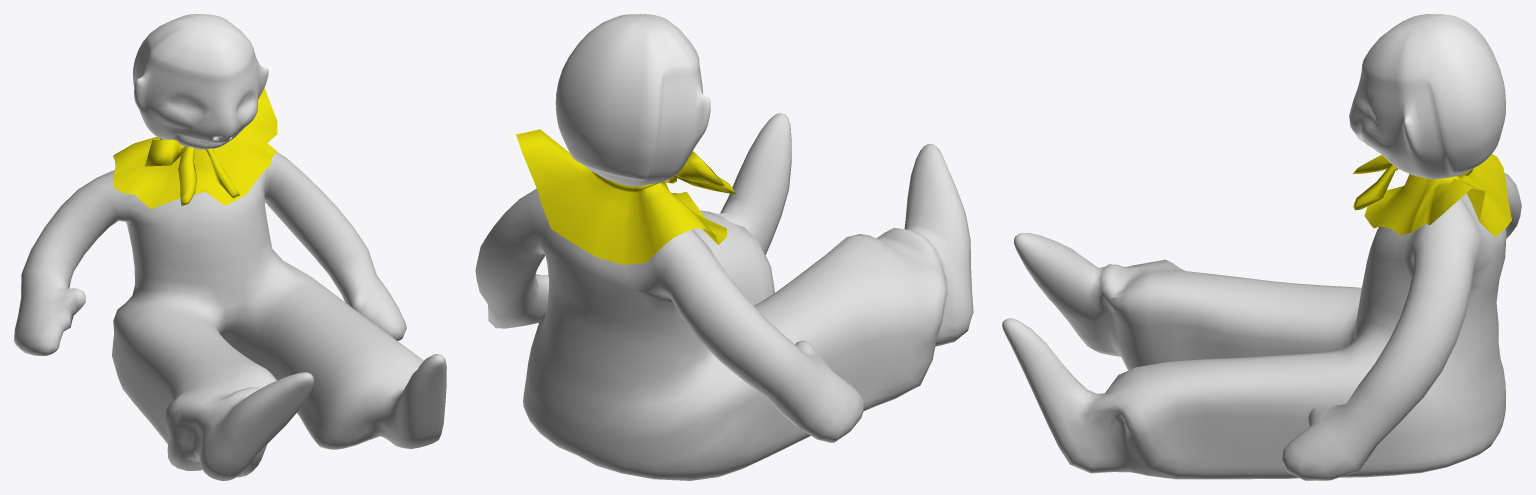
The model's file is Toy.fbx.
3 views of the same model, side by side, from view 1: azimuth 30°, elevation 25°; view 2: azimuth 150°, elevation 25°; view 3: azimuth 270°, elevation 25° (orthographic). The views are drawn at different scales.
Parts seen in each view (by area): view 1: ToyBody, ToyBody.001, ToyBody2; view 2: ToyBody, ToyBody.001, ToyBody2; view 3: ToyBody, ToyBody.001, ToyBody2.
Part boxes in pixels (x1=…): ToyBody: x1=14, y1=152, x2=446, y2=480; ToyBody.001: x1=133, y1=14, x2=268, y2=149; ToyBody2: x1=113, y1=88, x2=277, y2=208; ToyBody: x1=475, y1=113, x2=973, y2=480; ToyBody.001: x1=555, y1=14, x2=710, y2=186; ToyBody2: x1=516, y1=129, x2=735, y2=264; ToyBody: x1=1002, y1=173, x2=1521, y2=480; ToyBody.001: x1=1349, y1=14, x2=1505, y2=179; ToyBody2: x1=1353, y1=154, x2=1511, y2=236.
Bounding box in the file's own units: 68.69 × 70.85 × 78.02.
